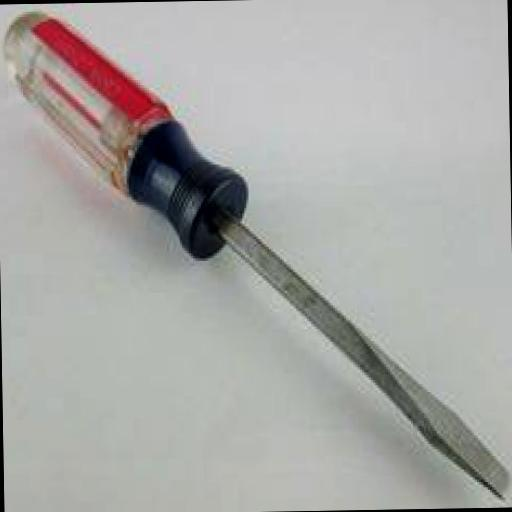screwdriver: (3, 4, 512, 510)
